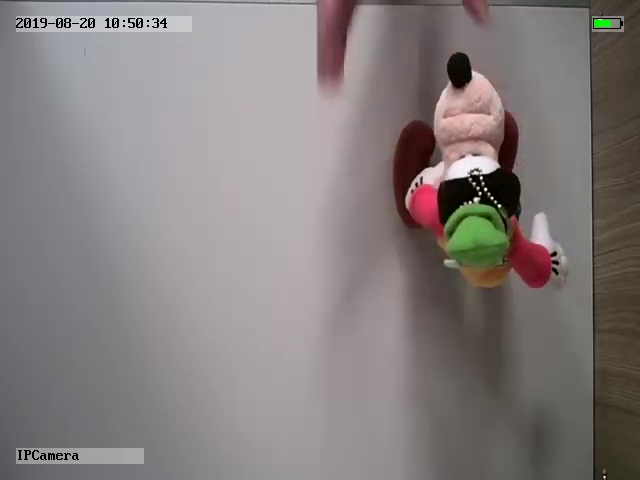goofy: (392, 51, 568, 291)
